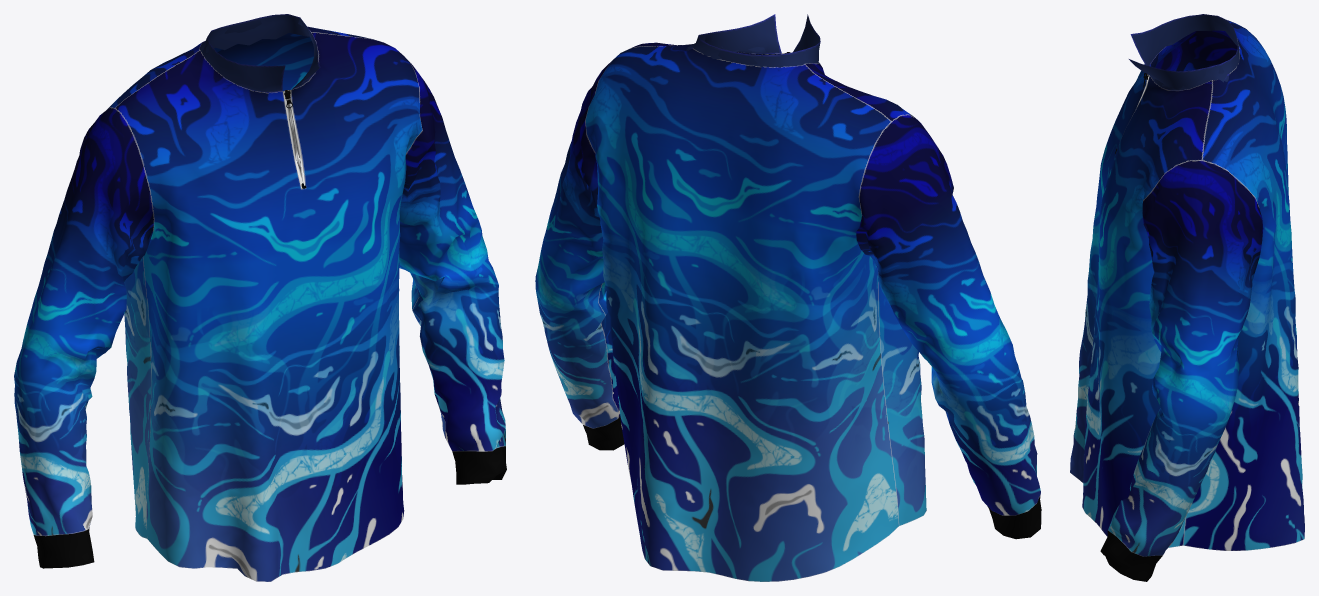
3 renders of one model, left to right at view 1: azimuth 30°, elevation 25°; view 2: azimuth 150°, elevation 25°; view 3: azimuth 270°, elevation 25°, orthographic. The views are drawn at different scales.
Visible parts, largest first — view 1: test; view 2: test; view 3: test.
Boxes of the visible parts, <box> form: test: <box>14,14,506,581</box>; test: <box>535,14,1041,581</box>; test: <box>1070,14,1304,581</box>.
Size of the model in its own units: 0.6926 by 0.7005 by 0.3099.
8 materials, 8 textured.
